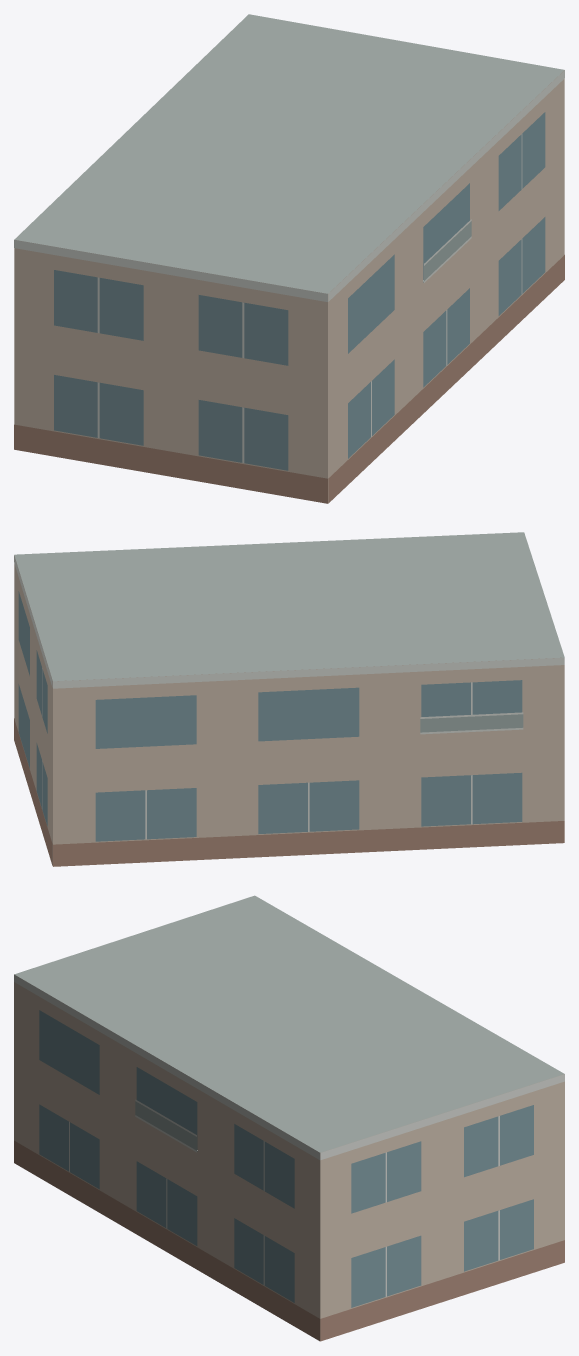
The model's file is survey-upis-32911427.glb.
3 views of the same model, one above another, from view 1: azimuth 30°, elevation 25°; view 2: azimuth 150°, elevation 25°; view 3: azimuth 270°, elevation 25° (orthographic). The views are drawn at different scales.
Parts seen in each view (by area): view 1: survey-upis-32911427.tmp; view 2: survey-upis-32911427.tmp; view 3: survey-upis-32911427.tmp.
Boxes of the visible parts, x1=… form: survey-upis-32911427.tmp: x1=14, y1=14, x2=564, y2=503; survey-upis-32911427.tmp: x1=14, y1=532, x2=564, y2=866; survey-upis-32911427.tmp: x1=14, y1=895, x2=564, y2=1341.
Size of the model in its own units: 17.86 by 6.1 by 16.15.
